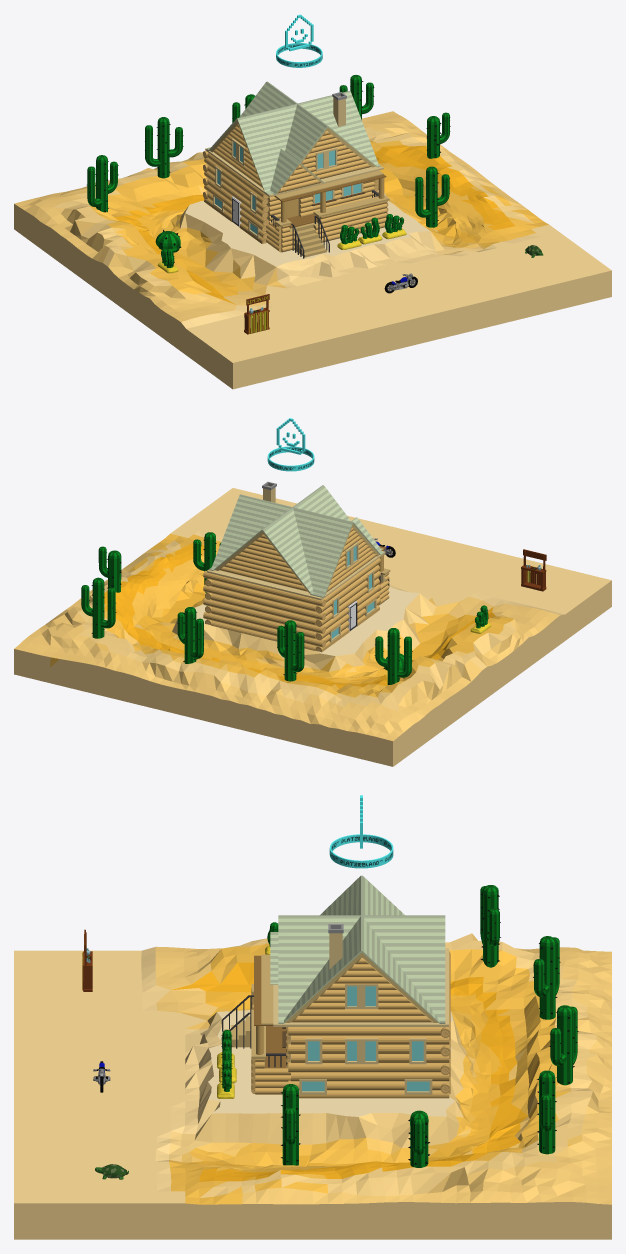
3 renders of one model, top to bottom at view 1: azimuth 30°, elevation 25°; view 2: azimuth 150°, elevation 25°; view 3: azimuth 270°, elevation 25°, orthographic. The views are drawn at different scales.
Visible parts, largest first — view 1: Cube.001, Cube.1516, Cylinder.044, Cylinder.037, Cylinder.045, TYPE_PREMIUM, Cylinder.038, OBJRANDOM_LEMONADE_STAND, Cylinder.042; view 2: Cube.001, Cube.1516, Cylinder.042, Cylinder.045, Cylinder.044, Cylinder.043, TYPE_PREMIUM, OBJRANDOM_LEMONADE_STAND, Cylinder.038, Cylinder.037; view 3: Cube.001, Cube.1516, Cylinder.044, Cylinder.043, Cylinder.045, Cylinder.042, Cylinder.037, TYPE_PREMIUM, Cylinder.038.
Boxes of the visible parts, left/top/right/bottom form: Cube.001: left=14, top=111, right=611, bottom=389; Cube.1516: left=203, top=81, right=389, bottom=258; Cylinder.044: left=145, top=117, right=183, bottom=178; Cylinder.037: left=415, top=166, right=449, bottom=227; Cylinder.045: left=87, top=155, right=118, bottom=212; TYPE_PREMIUM: left=276, top=14, right=322, bottom=67; Cylinder.038: left=426, top=112, right=450, bottom=158; OBJRANDOM_LEMONADE_STAND: left=244, top=294, right=269, bottom=334; Cylinder.042: left=339, top=75, right=374, bottom=119; Cube.001: left=14, top=488, right=611, bottom=766; Cube.1516: left=203, top=481, right=390, bottom=652; Cylinder.042: left=81, top=577, right=116, bottom=638; Cylinder.045: left=374, top=628, right=412, bottom=684; Cylinder.044: left=277, top=620, right=304, bottom=681; Cylinder.043: left=177, top=607, right=203, bottom=663; TYPE_PREMIUM: left=267, top=418, right=314, bottom=471; OBJRANDOM_LEMONADE_STAND: left=521, top=549, right=546, bottom=591; Cylinder.038: left=98, top=546, right=121, bottom=592; Cylinder.037: left=193, top=532, right=221, bottom=592; Cube.001: left=14, top=933, right=611, bottom=1239; Cube.1516: left=221, top=875, right=450, bottom=1098; Cylinder.044: left=533, top=936, right=560, bottom=1019; Cylinder.043: left=549, top=1005, right=578, bottom=1085; Cylinder.045: left=480, top=885, right=500, bottom=967; Cylinder.042: left=537, top=1070, right=556, bottom=1154; Cylinder.037: left=281, top=1084, right=300, bottom=1165; TYPE_PREMIUM: left=329, top=795, right=393, bottom=868; Cylinder.038: left=408, top=1110, right=429, bottom=1167.
Bounding box in the file's own units: 4002 × 2538 × 4001.
40 materials, 4 textured.
